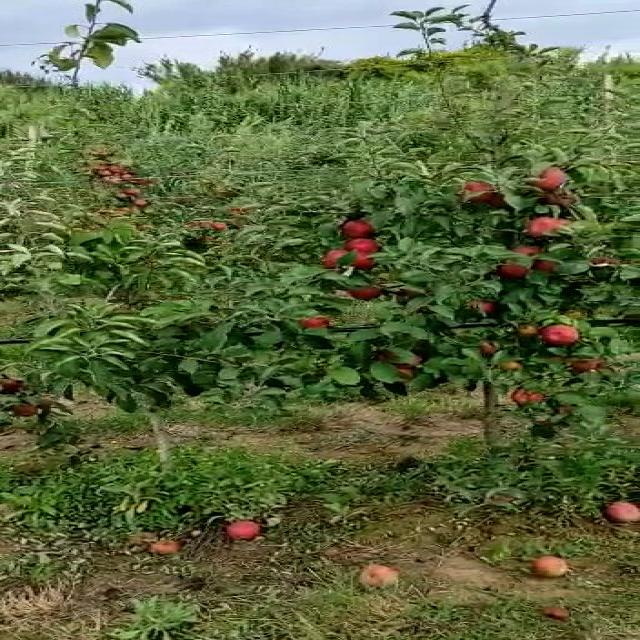100-_ripeness: (526, 215, 568, 240), (344, 278, 386, 301), (538, 326, 582, 347), (293, 312, 340, 329), (336, 222, 376, 241), (326, 248, 356, 272), (536, 164, 564, 189), (349, 239, 382, 254), (464, 183, 491, 200), (504, 262, 534, 277), (358, 254, 386, 270), (467, 299, 495, 314)
